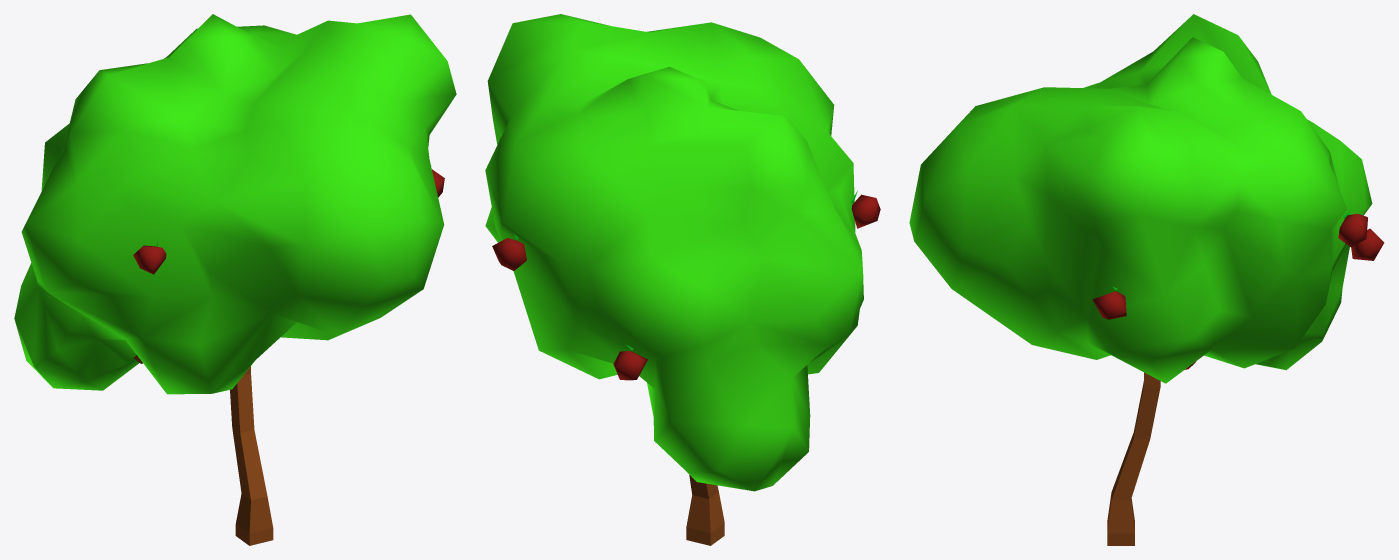
File: SM_AppleTree_001_LOD5.fbx
3 views of the same model, side by side, from view 1: azimuth 30°, elevation 25°; view 2: azimuth 150°, elevation 25°; view 3: azimuth 270°, elevation 25° (orthographic). The views are drawn at different scales.
Parts seen in each view (by area): view 1: AppleTree; view 2: AppleTree; view 3: AppleTree.
Part boxes in pixels (x1=…): AppleTree: x1=14, y1=14, x2=456, y2=545; AppleTree: x1=485, y1=14, x2=880, y2=545; AppleTree: x1=909, y1=14, x2=1384, y2=545.
Size of the model in its own units: 288 by 345 by 301.
